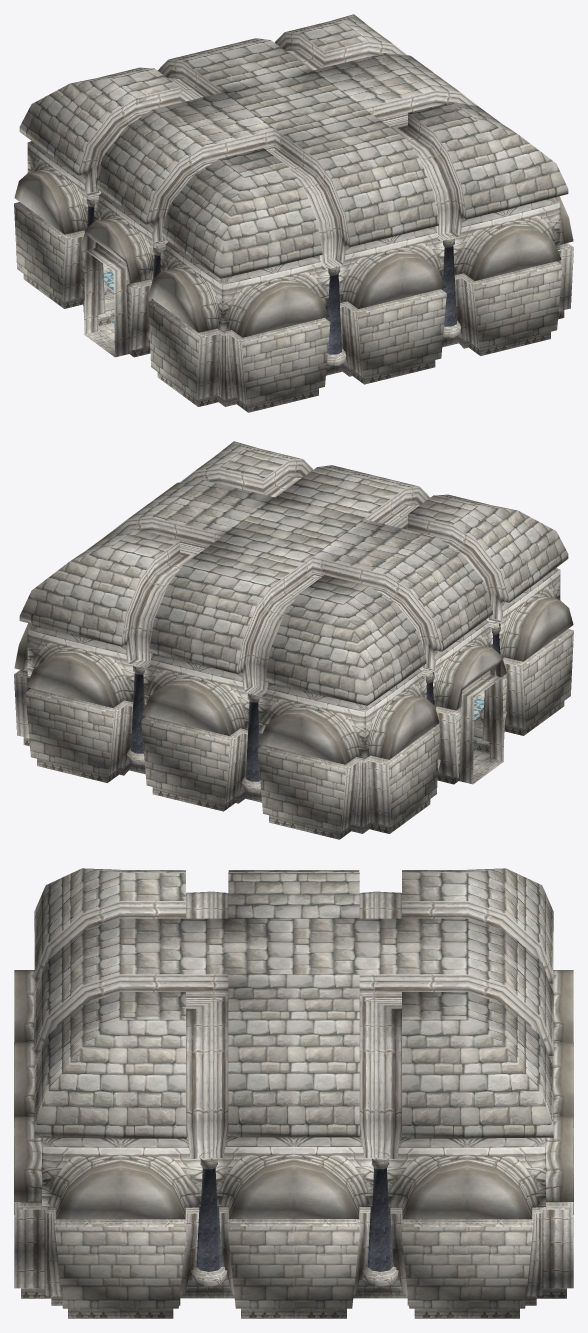
Rendered from stormwind_179.fbx.
3 views of the same model, one above another, from view 1: azimuth 30°, elevation 25°; view 2: azimuth 150°, elevation 25°; view 3: azimuth 270°, elevation 25° (orthographic). The views are drawn at different scales.
Visible parts, largest first — view 1: stormwind_179_165, stormwind_179_166, stormwind_179_168, stormwind_179_164, stormwind_179_169; view 2: stormwind_179_165, stormwind_179_166, stormwind_179_168, stormwind_179_164, stormwind_179_169; view 3: stormwind_179_165, stormwind_179_166, stormwind_179_168, stormwind_179_164, stormwind_179_169.
Part boxes in pixels (box(x1,y1,x2,y2)): stormwind_179_165: box(19, 14, 568, 278); stormwind_179_166: box(14, 32, 573, 412); stormwind_179_168: box(14, 143, 573, 337); stormwind_179_164: box(14, 203, 562, 405); stormwind_179_169: box(87, 206, 456, 354); stormwind_179_165: box(19, 441, 568, 705); stormwind_179_166: box(14, 459, 573, 839); stormwind_179_168: box(14, 570, 573, 764); stormwind_179_164: box(25, 630, 573, 832); stormwind_179_169: box(131, 633, 500, 781); stormwind_179_165: box(34, 868, 553, 1138); stormwind_179_166: box(14, 891, 573, 1318); stormwind_179_168: box(14, 970, 573, 1219); stormwind_179_164: box(55, 1226, 532, 1308); stormwind_179_169: box(196, 1168, 392, 1271).
Bounding box in the file's own units: 40.81 × 20.27 × 40.07.
